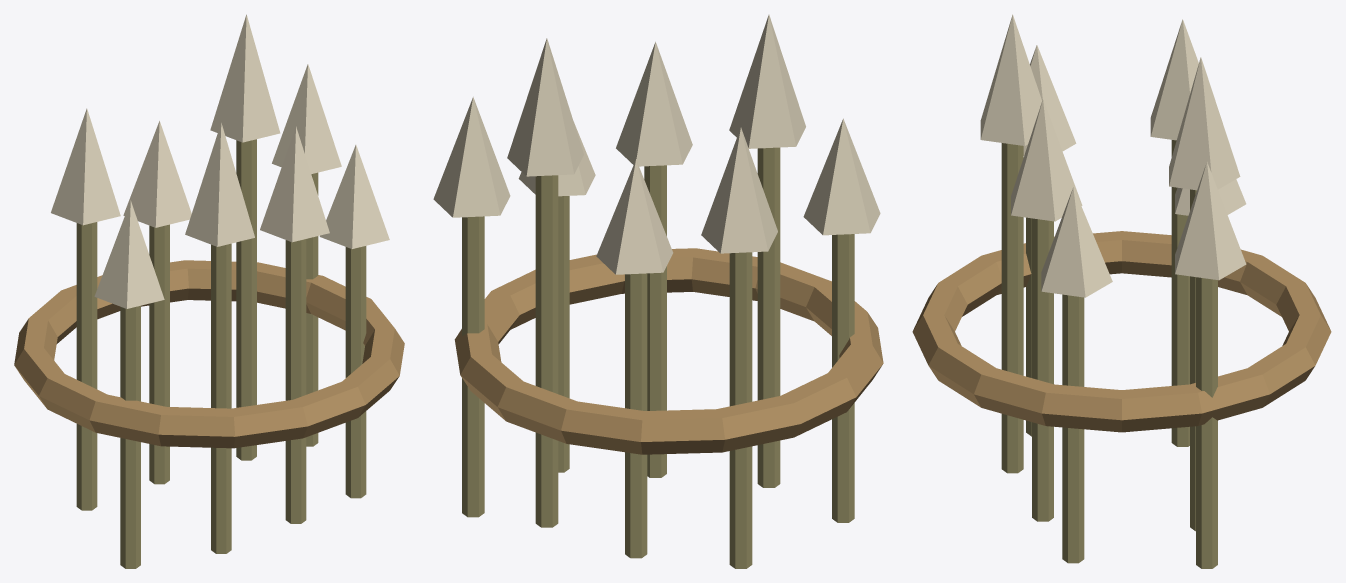
File: economy_cargo_wheat_v01.glb
3 views of the same model, side by side, from view 1: azimuth 30°, elevation 25°; view 2: azimuth 150°, elevation 25°; view 3: azimuth 270°, elevation 25° (orthographic). The views are drawn at different scales.
Visible parts, largest first — view 1: GEO_WheatTie, GEO_WheatStalk_1, GEO_WheatStalk_4, GEO_WheatStalk_2, GEO_WheatStalk_6, GEO_WheatStalk_0, GEO_WheatHead_6, GEO_WheatHead_1, GEO_WheatStalk_3, GEO_WheatHead_4, GEO_WheatStalk_5, GEO_WheatHead_2 (+5 smaller); view 2: GEO_WheatTie, GEO_WheatStalk_6, GEO_WheatStalk_4, GEO_WheatStalk_1, GEO_WheatHead_6, GEO_WheatHead_1, GEO_WheatStalk_7, GEO_WheatStalk_5, GEO_WheatHead_4, GEO_WheatHead_2, GEO_WheatHead_7, GEO_WheatStalk_0 (+5 smaller); view 3: GEO_WheatTie, GEO_WheatStalk_1, GEO_WheatStalk_7, GEO_WheatStalk_2, GEO_WheatStalk_3, GEO_WheatHead_6, GEO_WheatHead_1, GEO_WheatHead_7, GEO_WheatHead_2, GEO_WheatHead_3, GEO_WheatStalk_4, GEO_WheatHead_4 (+4 smaller).
Boxes of the visible parts, <box> form: GEO_WheatTie: <box>14,260,404,448</box>; GEO_WheatStalk_1: <box>211,243,231,553</box>; GEO_WheatStalk_4: <box>76,222,97,510</box>; GEO_WheatStalk_2: <box>285,239,306,523</box>; GEO_WheatStalk_6: <box>236,139,256,460</box>; GEO_WheatStalk_0: <box>120,305,140,568</box>; GEO_WheatHead_6: <box>210,14,280,142</box>; GEO_WheatHead_1: <box>185,122,254,246</box>; GEO_WheatStalk_3: <box>345,246,366,498</box>; GEO_WheatHead_4: <box>51,108,120,225</box>; GEO_WheatStalk_5: <box>149,224,169,484</box>; GEO_WheatHead_2: <box>260,126,329,242</box>; GEO_WheatTie: <box>454,248,883,454</box>; GEO_WheatStalk_6: <box>535,175,558,527</box>; GEO_WheatStalk_4: <box>729,252,752,568</box>; GEO_WheatStalk_1: <box>757,147,780,487</box>; GEO_WheatHead_6: <box>507,38,583,176</box>; GEO_WheatHead_1: <box>729,14,805,148</box>; GEO_WheatStalk_7: <box>462,216,484,517</box>; GEO_WheatStalk_5: <box>625,273,647,558</box>; GEO_WheatHead_4: <box>701,127,777,253</box>; GEO_WheatHead_2: <box>616,42,692,166</box>; GEO_WheatHead_7: <box>433,97,510,217</box>; GEO_WheatStalk_0: <box>832,234,854,522</box>; GEO_WheatTie: <box>912,231,1331,432</box>; GEO_WheatStalk_1: <box>1001,143,1023,473</box>; GEO_WheatStalk_7: <box>1196,277,1217,568</box>; GEO_WheatStalk_2: <box>1032,218,1053,521</box>; GEO_WheatStalk_3: <box>1062,294,1084,563</box>; GEO_WheatHead_6: <box>1169,57,1240,190</box>; GEO_WheatHead_1: <box>980,14,1041,145</box>; GEO_WheatHead_7: <box>1175,162,1246,280</box>; GEO_WheatHead_2: <box>1011,99,1082,221</box>; GEO_WheatHead_3: <box>1041,187,1112,297</box>; GEO_WheatStalk_4: <box>1171,140,1189,446</box>; GEO_WheatHead_4: <box>1150,19,1198,140</box>.
Bounding box in the file's own units: 0.69 × 0.8668 × 0.69.
